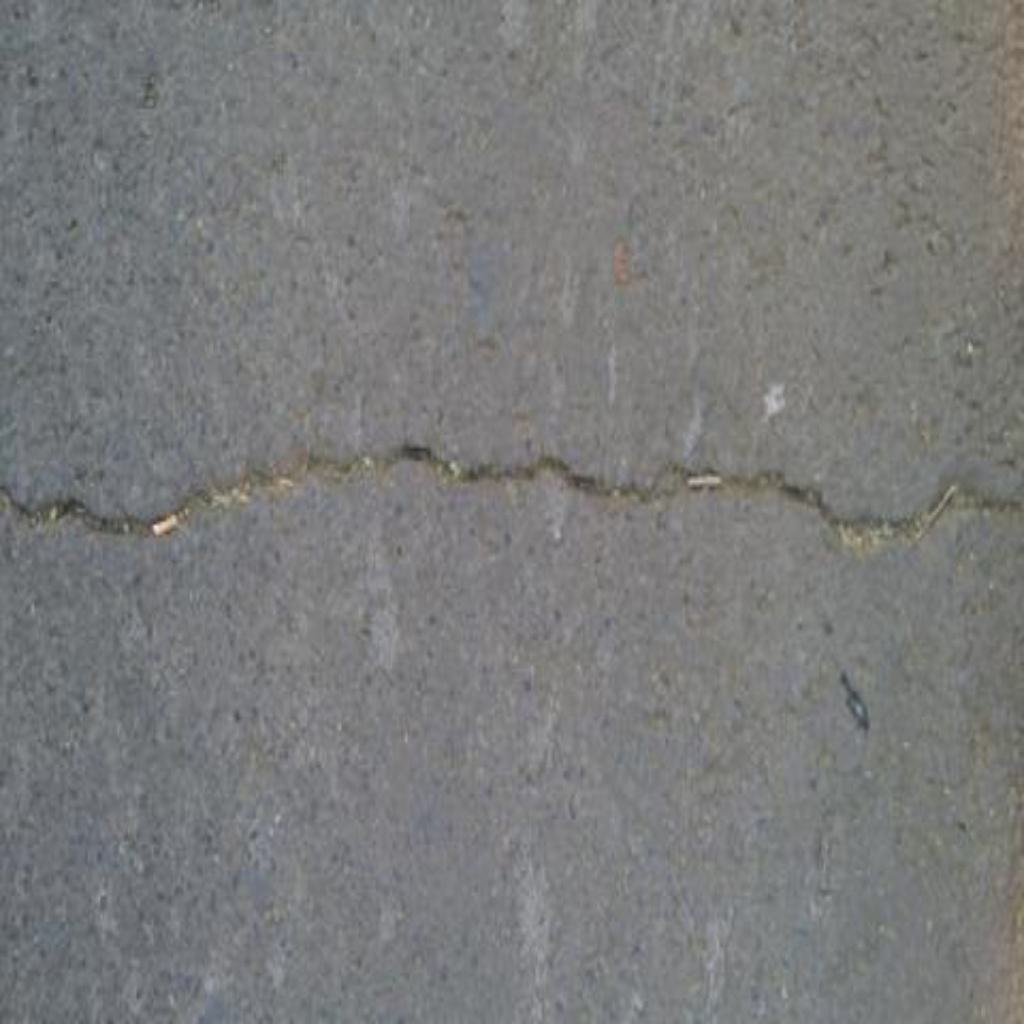Crack: (1, 440, 1024, 557)
